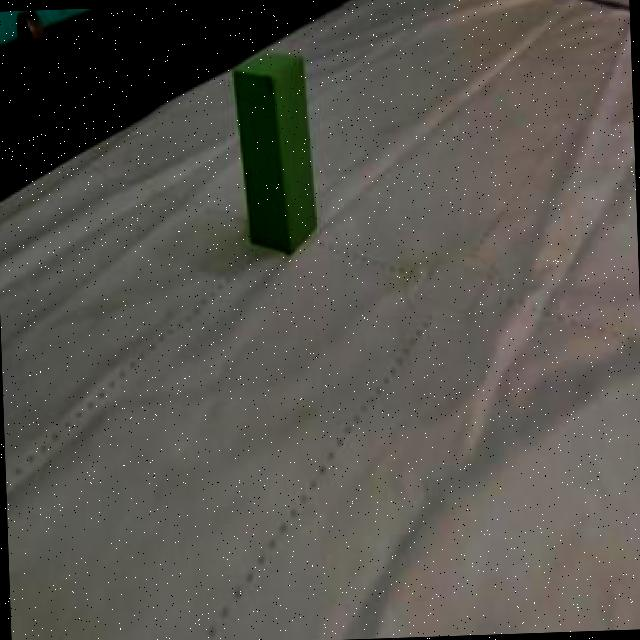greenbox: (228, 48, 318, 258)
